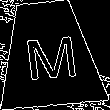M_N: (19, 26, 79, 81)
